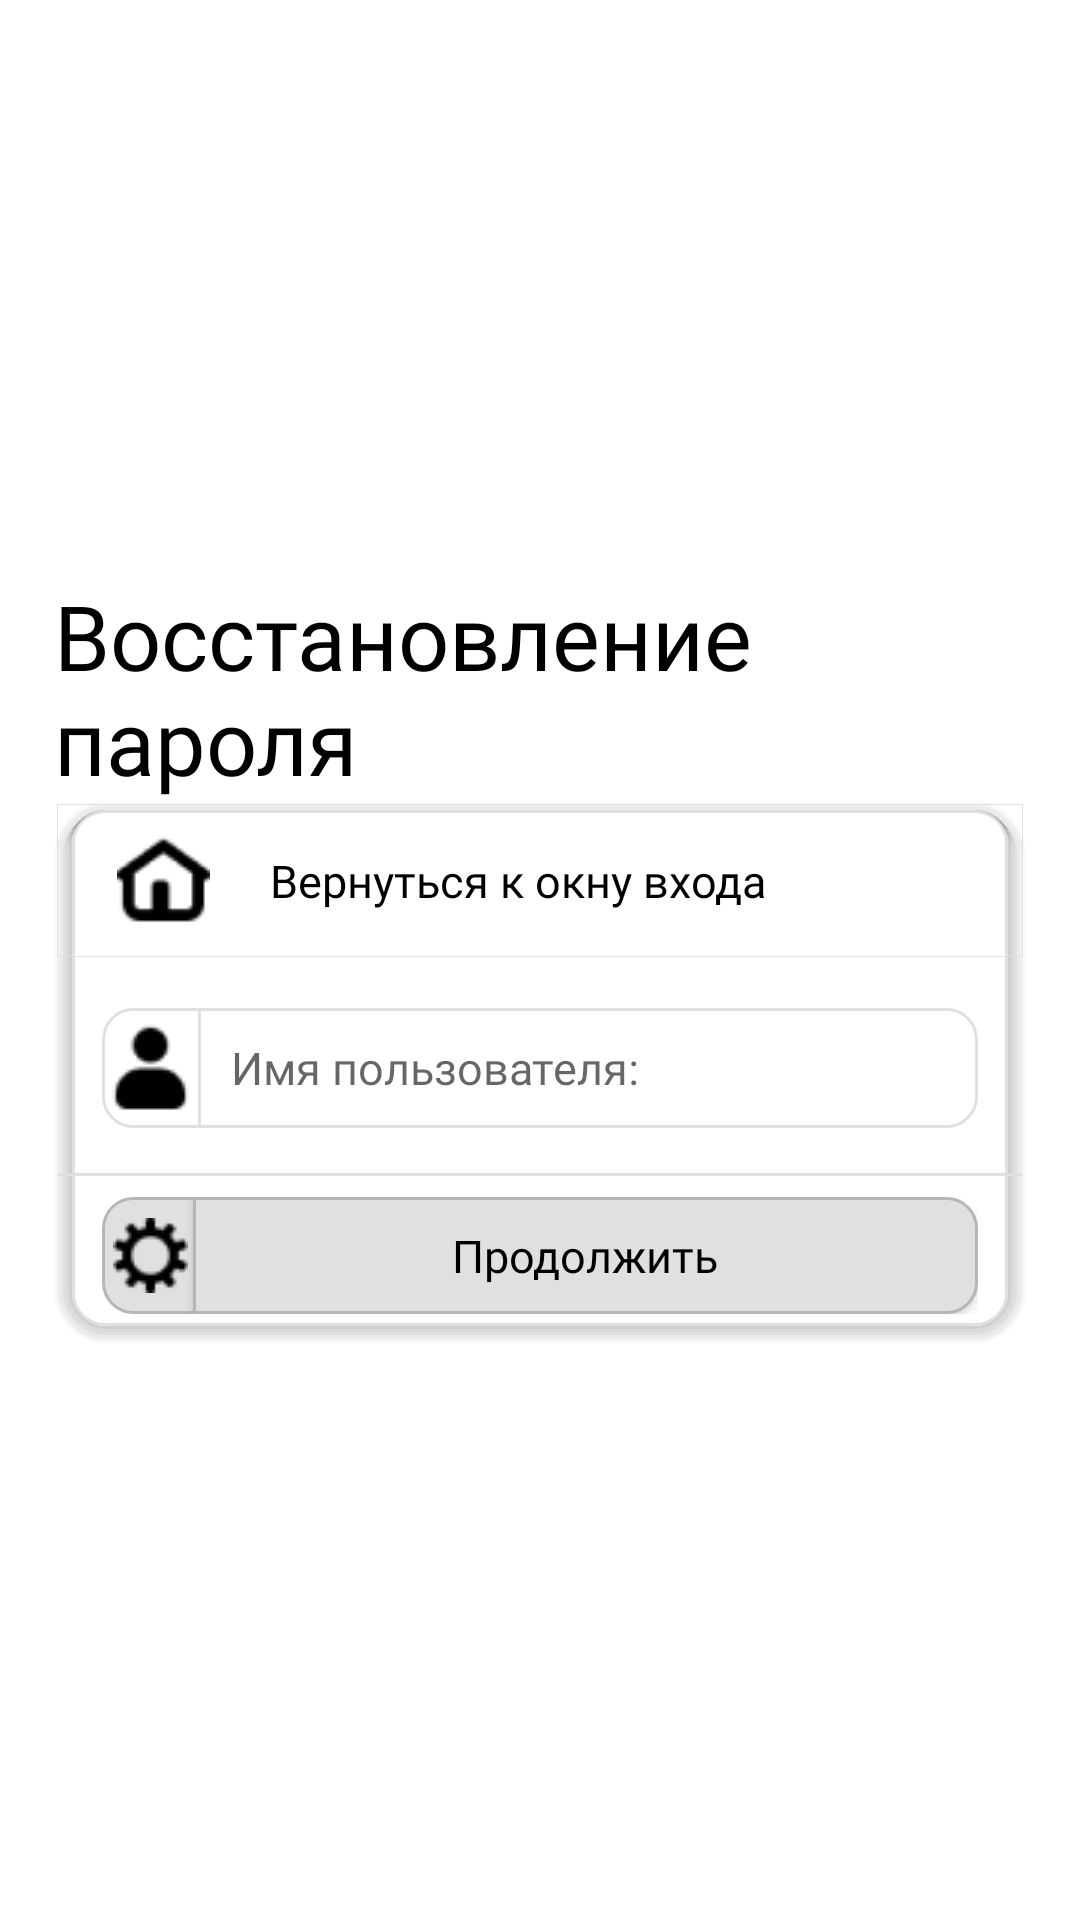

Icons on this 1080w x 1920h Android screen, each with its box as (x1, y1, x2, y2):
settings: (102, 1197, 198, 1314)
user: (114, 1026, 187, 1110)
